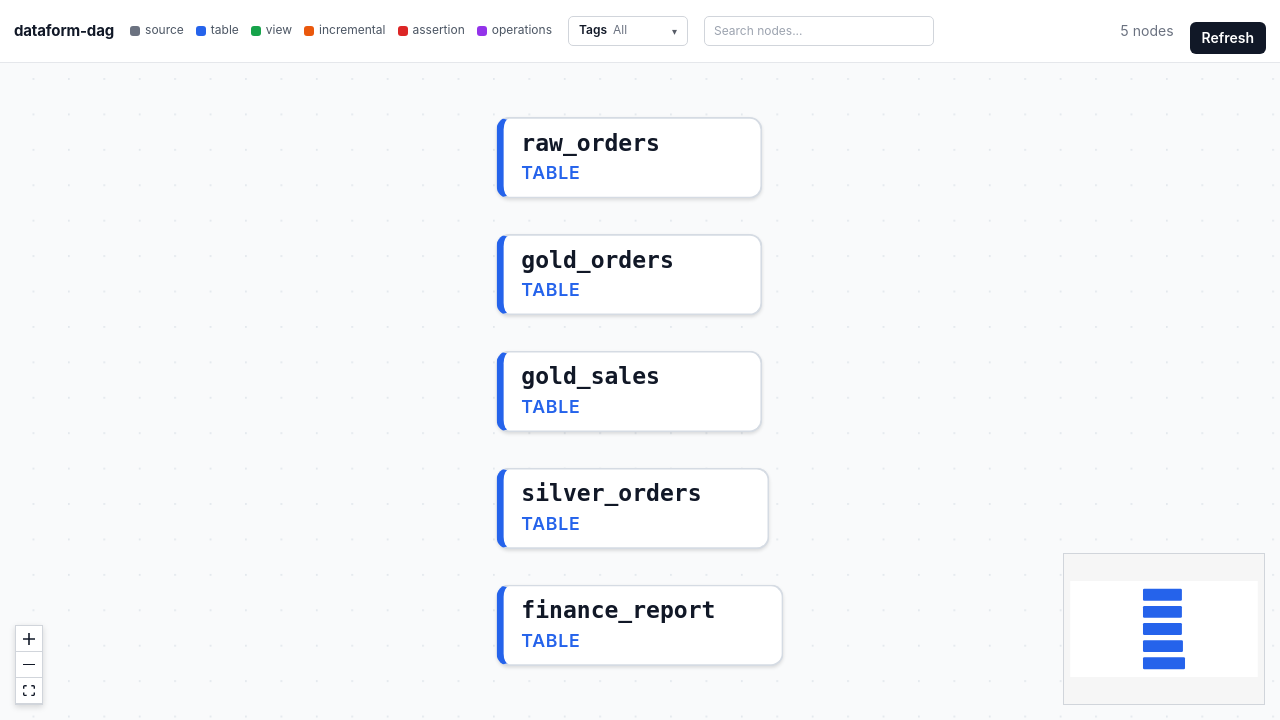
Test case: App › shows an empty state when no tags match the search
Expected: the text "5 nodes" is shown, [1120,21,1174,41]
Click the heading "Tags All" at coordinates (628, 31), box [568,16,688,46]
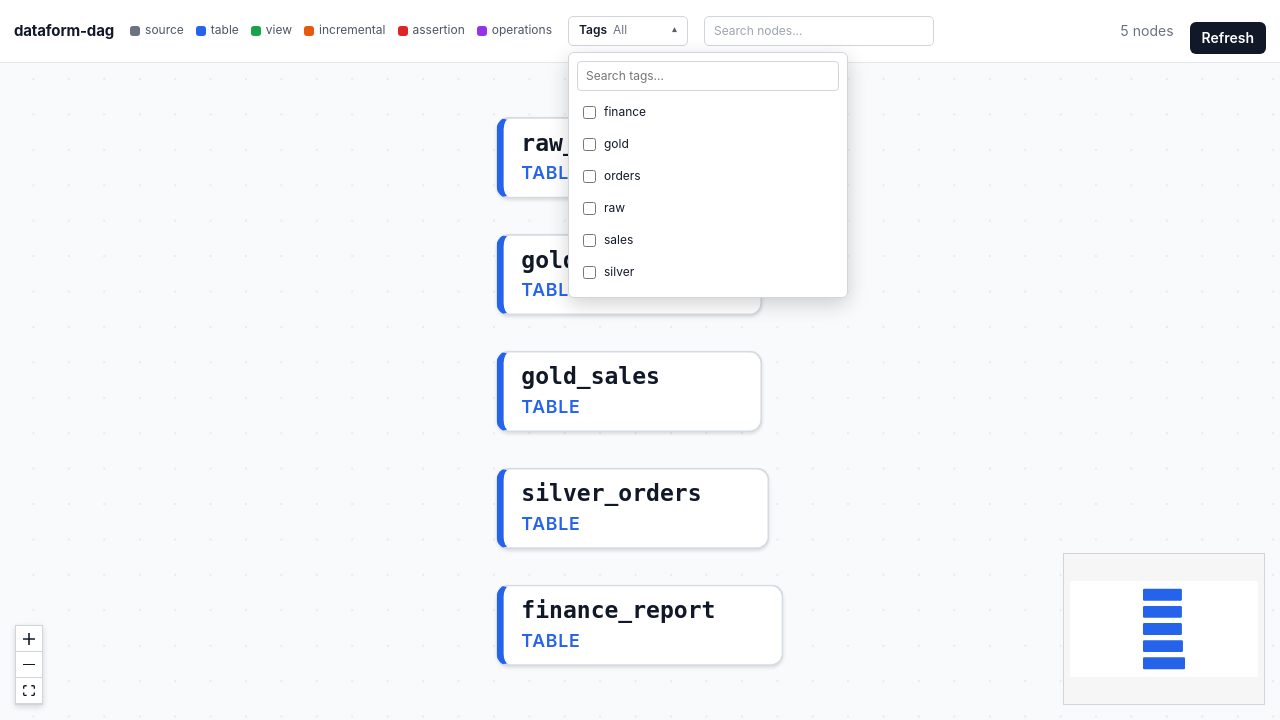
Type "does-not-exist" into the search field with placeholder "Search tags..." at coordinates (708, 76), box [577,61,839,91]
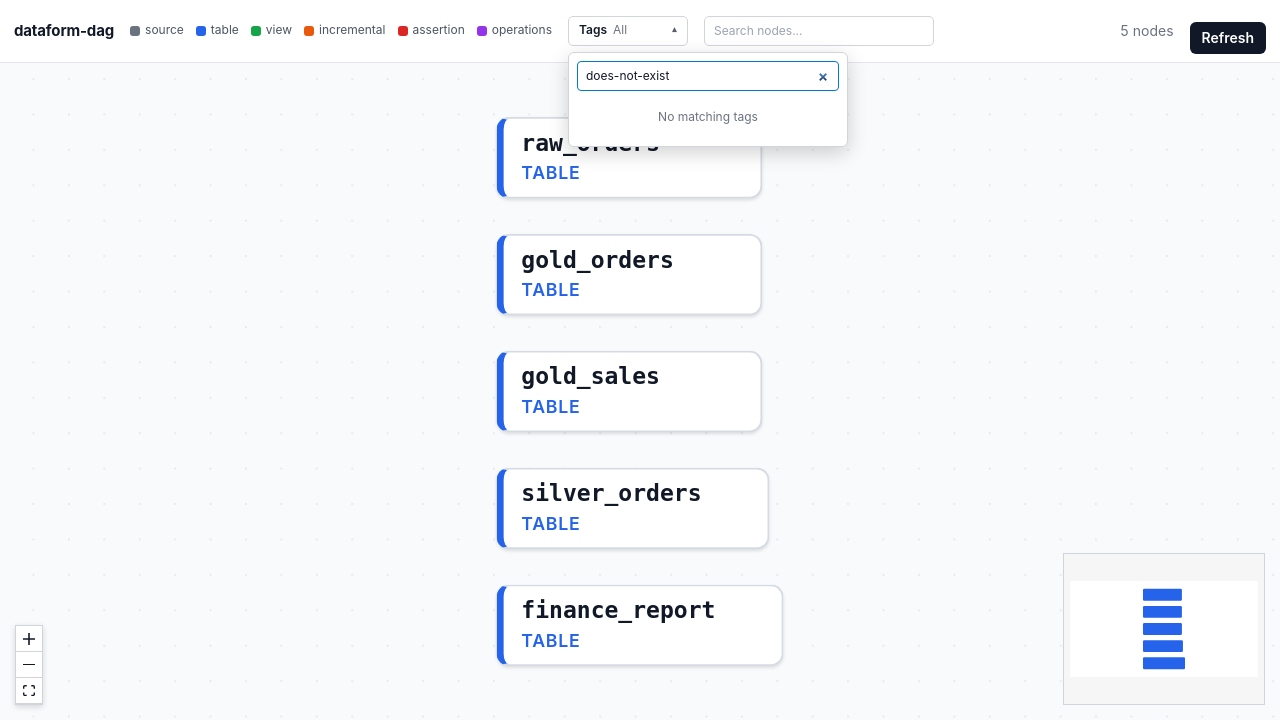
Now the text "No matching tags" is shown, box [658,109,758,124]
